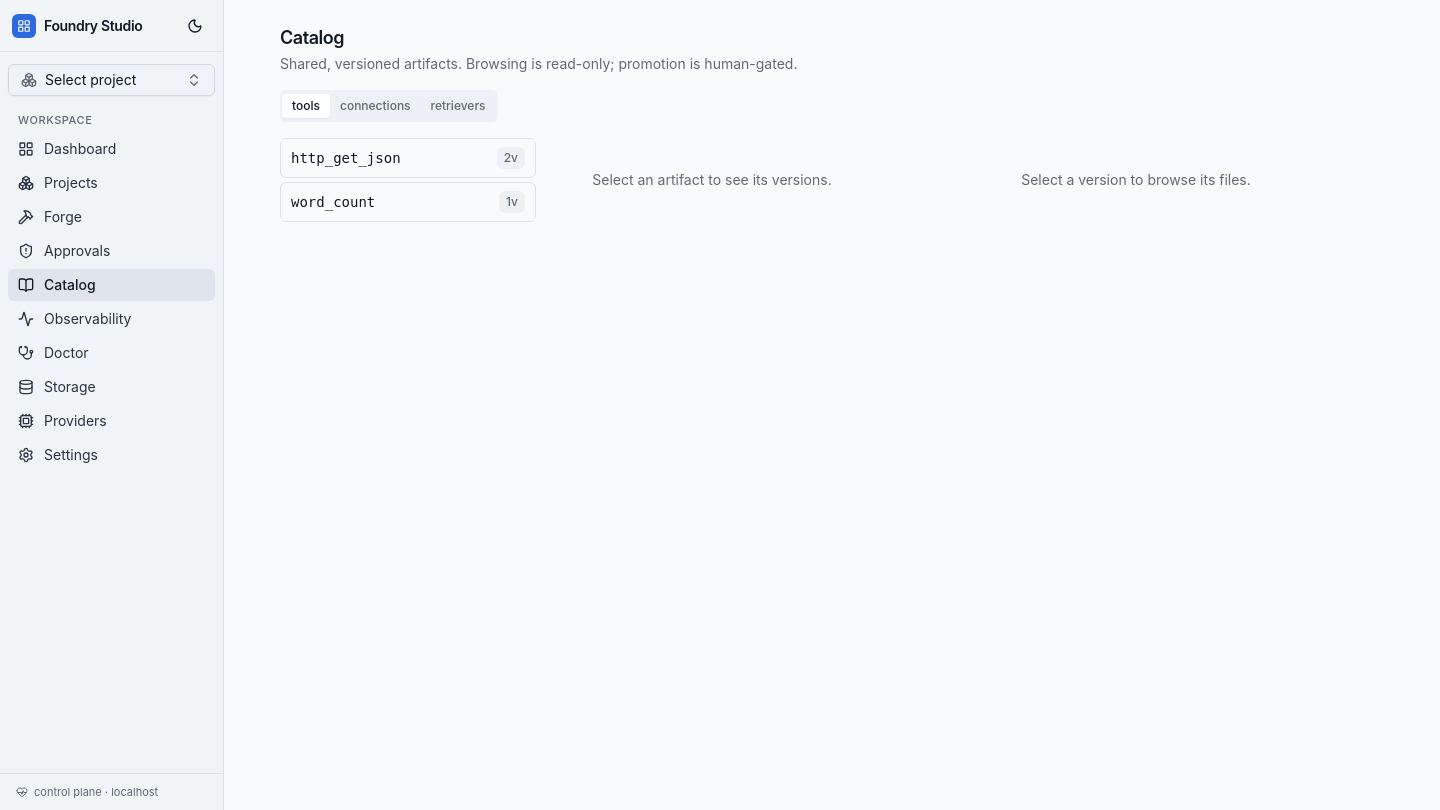
it: catalog explorer › browses kind → artifact → versions → files
The image size is (1440, 810).
Click the button "http_get_json 2v".
click(408, 158)  # box top-left (280, 138), bottom-right (536, 178)
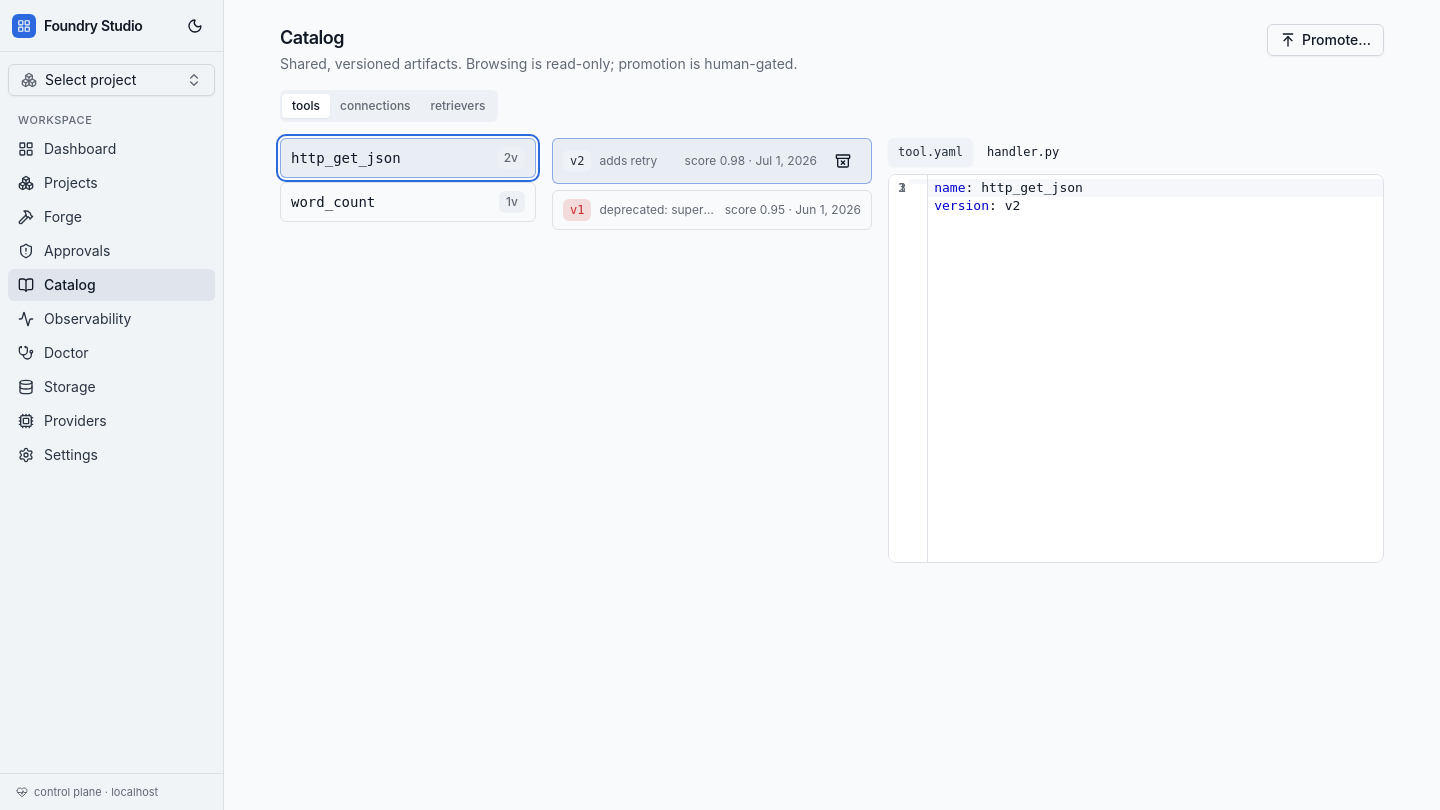
Now the text "adds retry" is shown, box top-left (600, 153), bottom-right (657, 169)
Now the text "deprecated: superseded by v2" is shown, box top-left (600, 202), bottom-right (717, 218)
Now the button "tool.yaml" is shown, box top-left (888, 138), bottom-right (973, 166)
